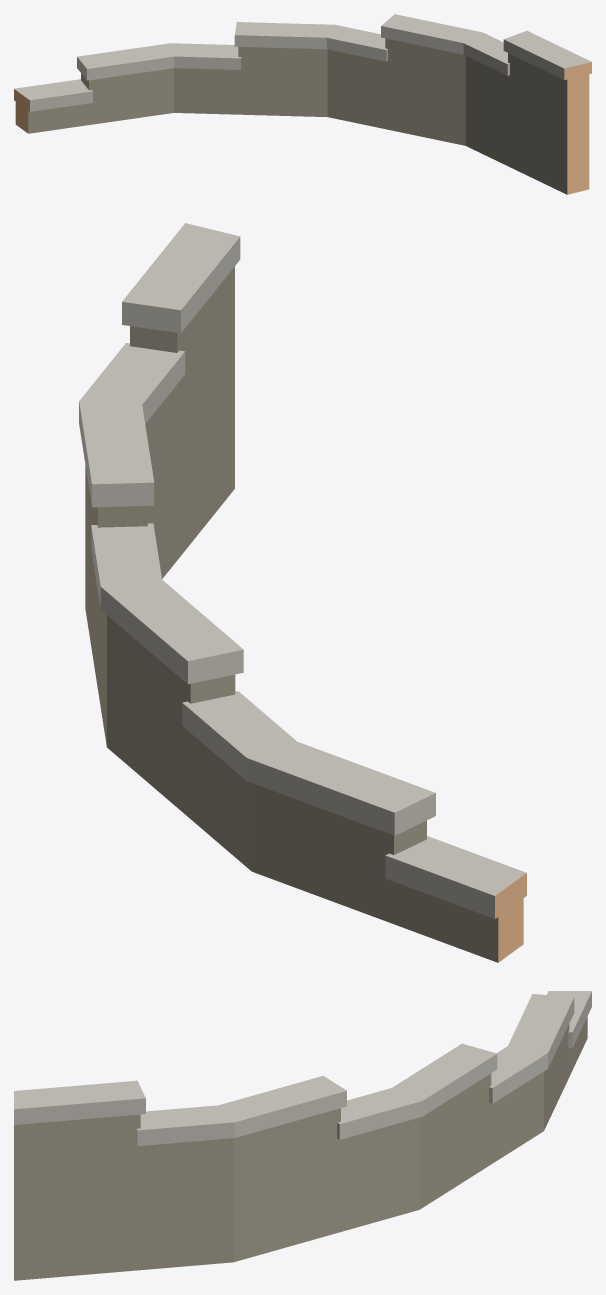
File: Tiered_Retaining_Wall_Stepped_Curve_Short_4x4.glb
3 views of the same model, one above another, from view 1: azimuth 30°, elevation 25°; view 2: azimuth 150°, elevation 25°; view 3: azimuth 270°, elevation 25° (orthographic). The views are drawn at different scales.
Visible parts, largest first — view 1: Tiered_Retaining_Wall_Stepped_Curve_Short_4x4; view 2: Tiered_Retaining_Wall_Stepped_Curve_Short_4x4; view 3: Tiered_Retaining_Wall_Stepped_Curve_Short_4x4.
Part boxes in pixels (bbox=[...]): Tiered_Retaining_Wall_Stepped_Curve_Short_4x4: bbox=[14, 14, 591, 194]; Tiered_Retaining_Wall_Stepped_Curve_Short_4x4: bbox=[79, 223, 526, 962]; Tiered_Retaining_Wall_Stepped_Curve_Short_4x4: bbox=[14, 991, 591, 1280].
Size of the model in its own units: 416 by 138 by 416.
